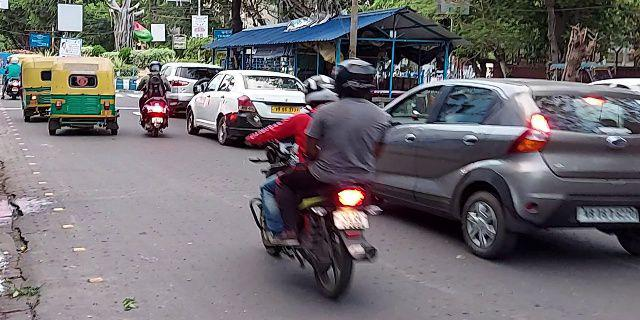Autorickshaw: (50, 54, 120, 132), (19, 55, 55, 123)
Car: (358, 75, 639, 256), (185, 70, 302, 143), (157, 59, 209, 116)
Motorbike: (257, 67, 377, 295), (135, 58, 172, 141)
